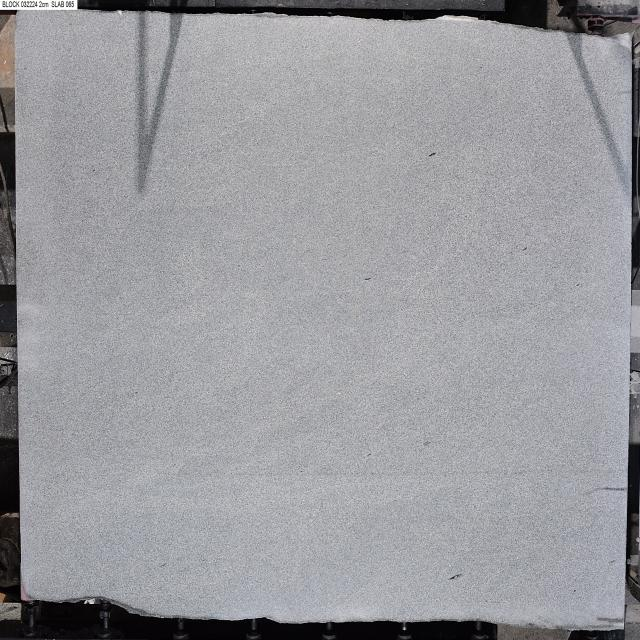chapa: (16, 12, 631, 627)
